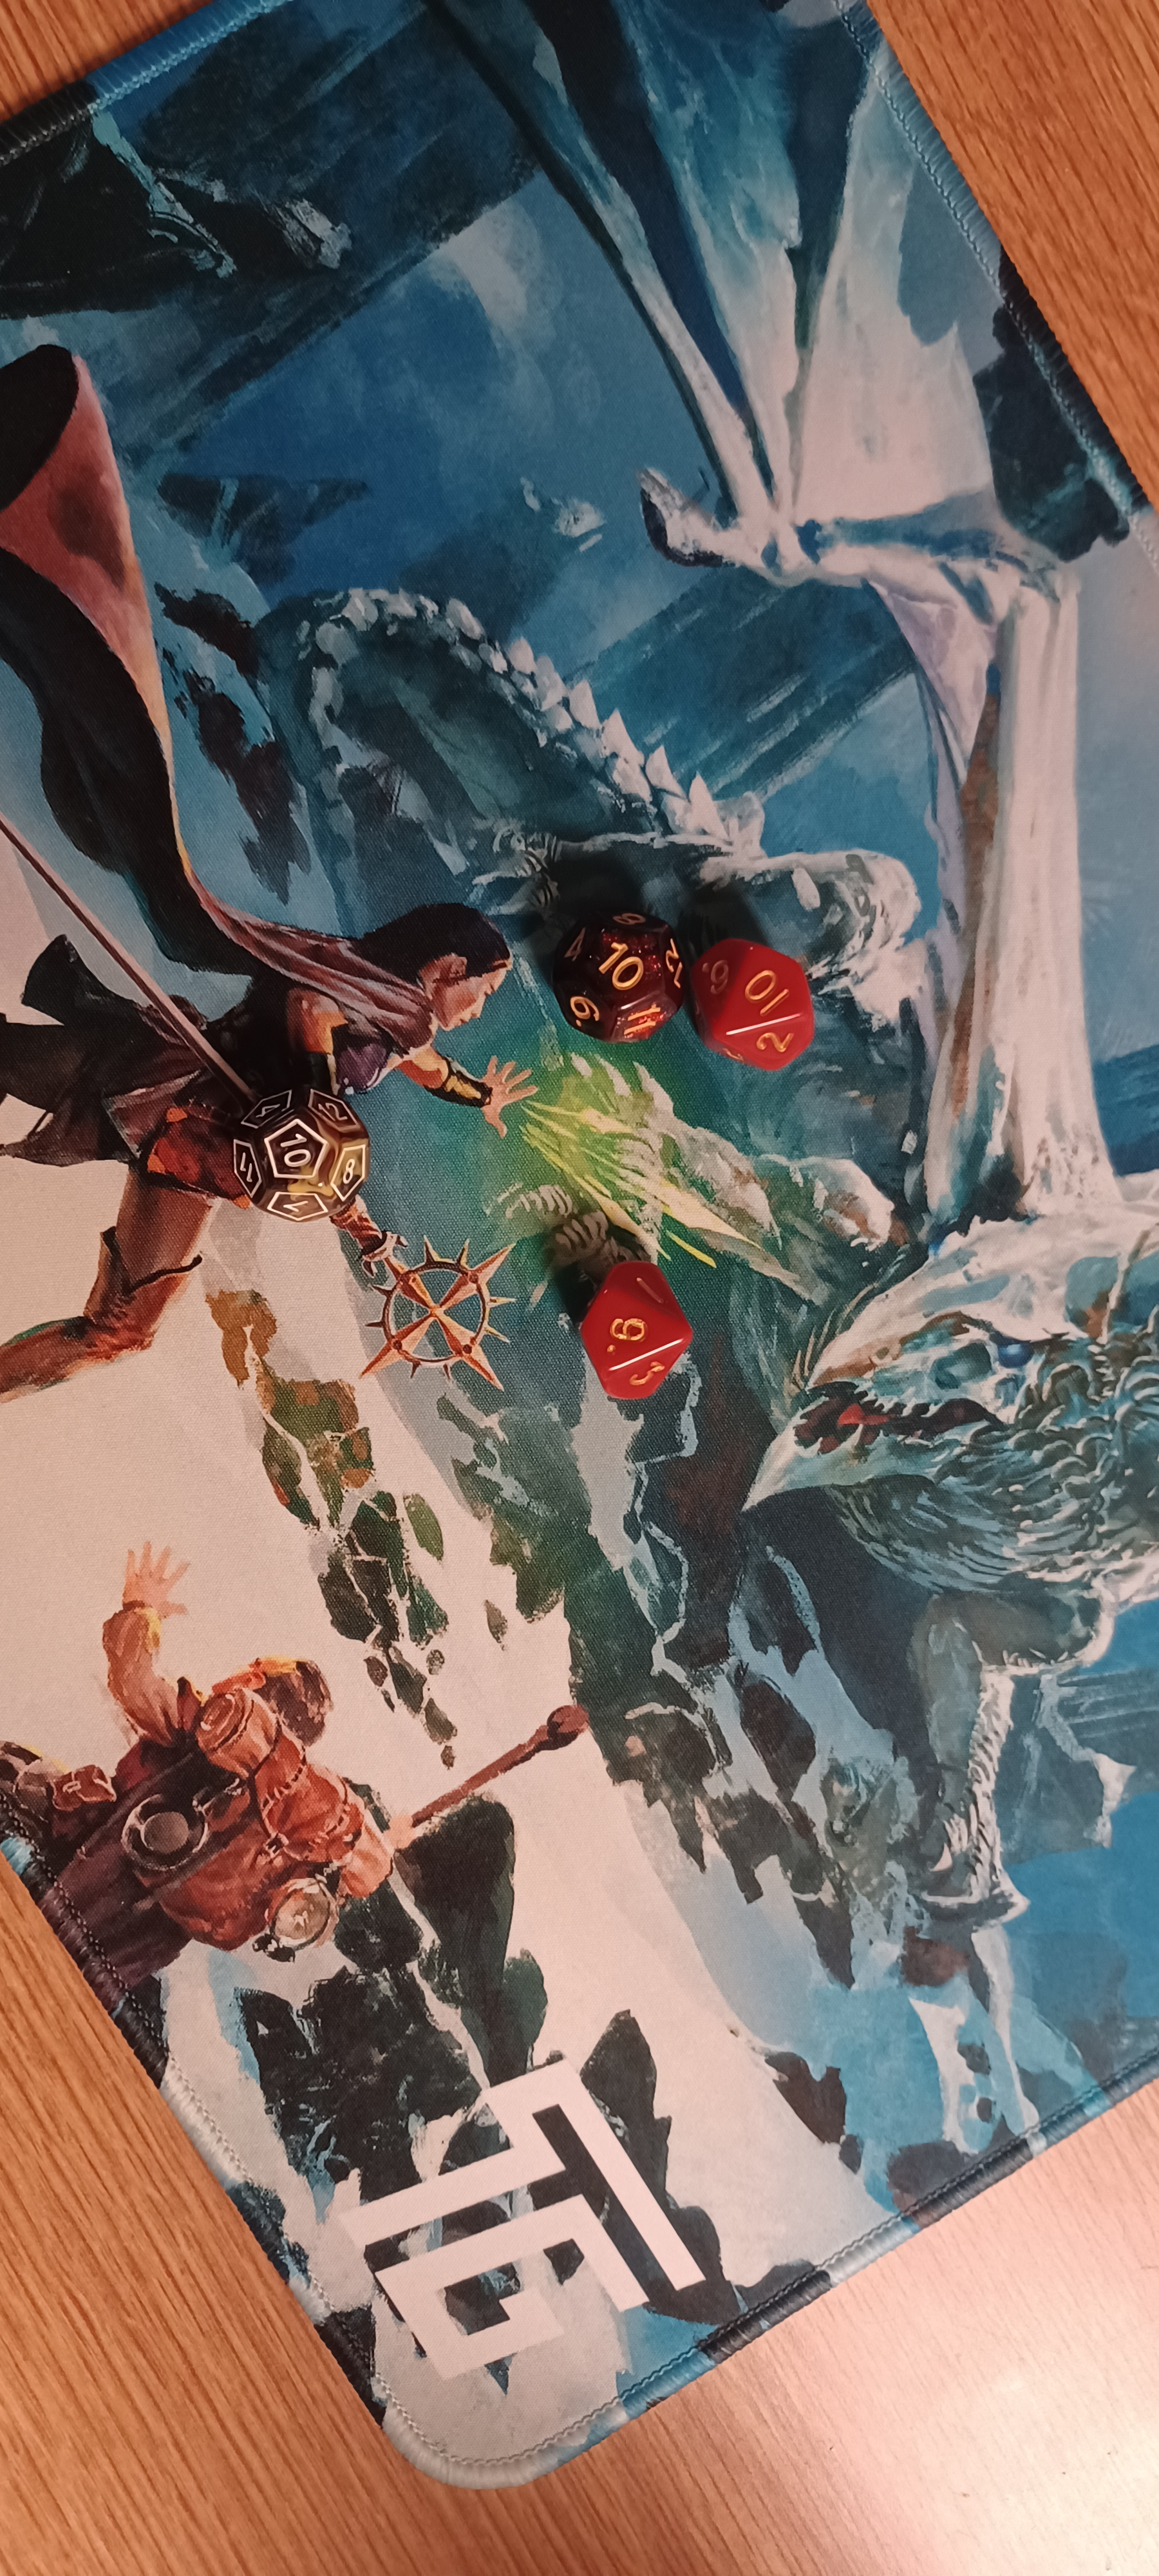nine: (538, 1240, 732, 1423)
ten: (534, 884, 701, 1074), (197, 1066, 387, 1221), (678, 918, 836, 1101)
